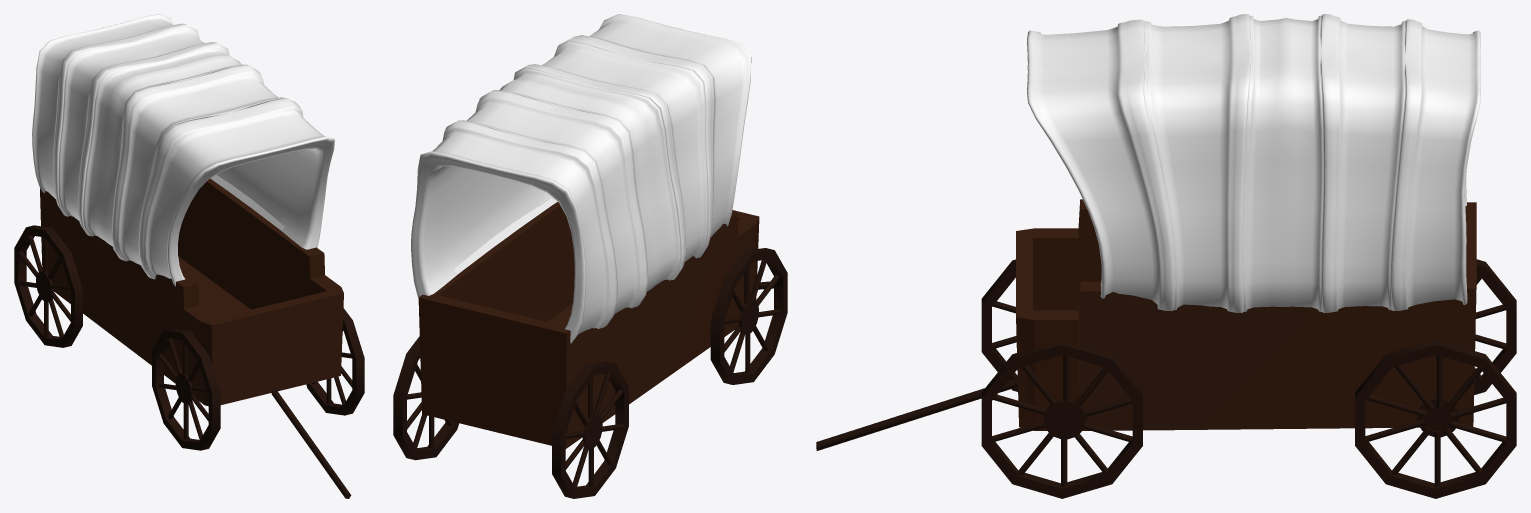
File: Woz z nakryciem.FBX
The picture shows the model from 3 angles, left to right: view 1: azimuth 30°, elevation 25°; view 2: azimuth 150°, elevation 25°; view 3: azimuth 270°, elevation 25°; orthographic projection. The views are drawn at different scales.
Parts seen in each view (by area): view 1: Tube003, Box001, Tube002, Tube001, Tube005, Cylinder045, Cylinder012, Cylinder001; view 2: Tube003, Box001, Tube002, Tube001, Tube004, Cylinder001, Cylinder012; view 3: Tube003, Box001, Tube004, Tube005, Tube001, Cylinder045, Tube002, Cylinder034, Cylinder023.
Boxes of the visible parts, left/top/right/bottom form: Tube003: left=32, top=14, right=334, bottom=286; Box001: left=40, top=178, right=343, bottom=406; Tube002: left=152, top=328, right=220, bottom=450; Tube001: left=14, top=225, right=82, bottom=347; Tube005: left=306, top=308, right=364, bottom=415; Cylinder045: left=271, top=388, right=351, bottom=498; Cylinder012: left=175, top=373, right=193, bottom=404; Cylinder001: left=36, top=271, right=53, bottom=301; Tube003: left=411, top=14, right=751, bottom=343; Box001: left=418, top=202, right=759, bottom=448; Tube002: left=710, top=248, right=787, bottom=384; Tube001: left=552, top=361, right=628, bottom=498; Tube004: left=393, top=336, right=458, bottom=460; Cylinder001: left=582, top=414, right=602, bottom=449; Cylinder012: left=739, top=300, right=758, bottom=334; Tube003: left=1027, top=14, right=1480, bottom=312; Box001: left=1016, top=199, right=1476, bottom=430; Tube004: left=1355, top=339, right=1516, bottom=498; Tube005: left=981, top=342, right=1142, bottom=498; Tube001: left=1474, top=259, right=1516, bottom=395; Cylinder045: left=816, top=377, right=1017, bottom=450; Tube002: left=981, top=259, right=1017, bottom=391; Cylinder034: left=1043, top=400, right=1085, bottom=439; Cylinder023: left=1417, top=398, right=1459, bottom=437.
Bounding box in the file's own units: 49.12 × 87.4 × 137.
